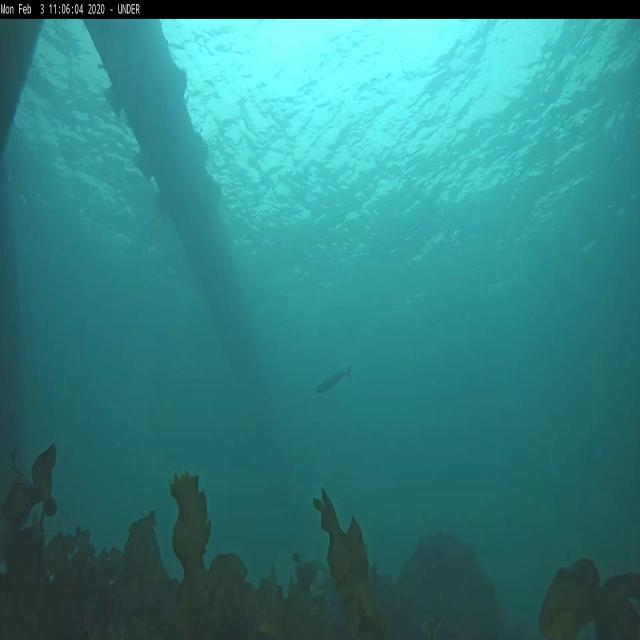fish: (314, 366, 351, 401)
